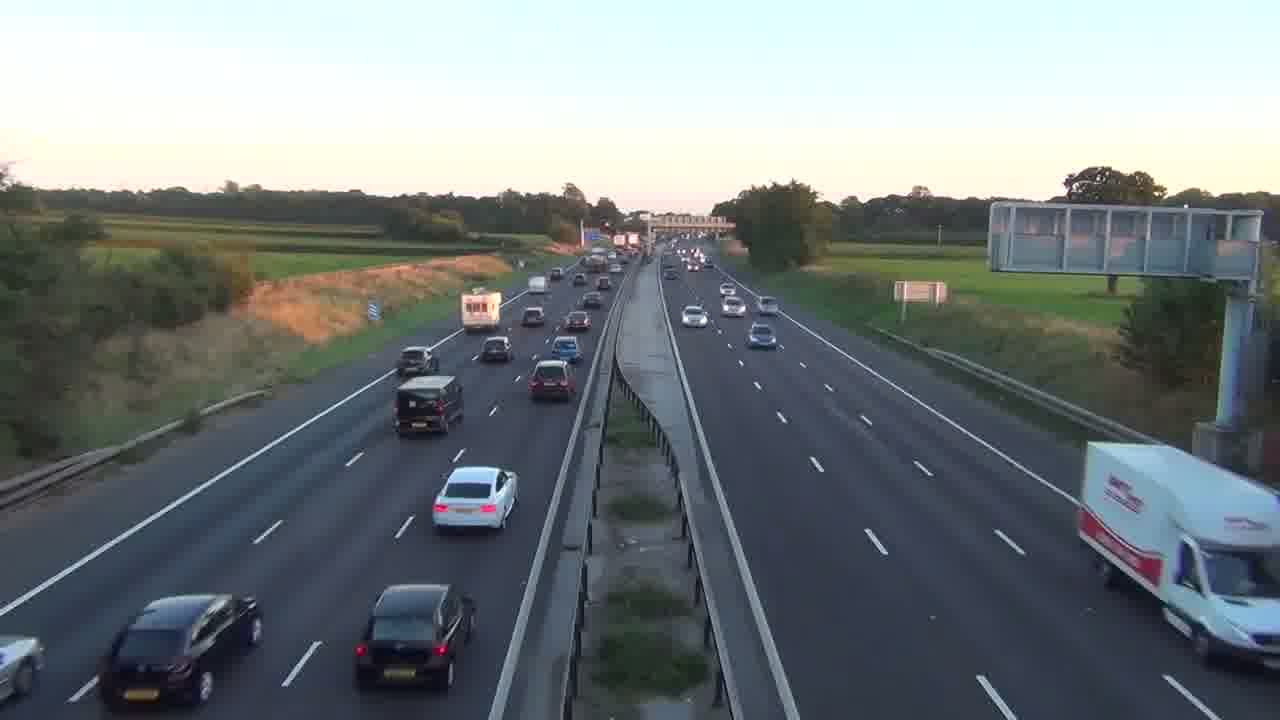car: (97, 592, 264, 710), (353, 583, 478, 691), (431, 465, 519, 533), (0, 635, 48, 704), (528, 359, 577, 402), (746, 321, 780, 350), (477, 336, 512, 363), (551, 335, 581, 363), (561, 310, 592, 332), (681, 305, 709, 327), (521, 306, 544, 327)
truck: (1075, 440, 1279, 671), (97, 592, 264, 710), (392, 374, 465, 437), (461, 289, 503, 333)
